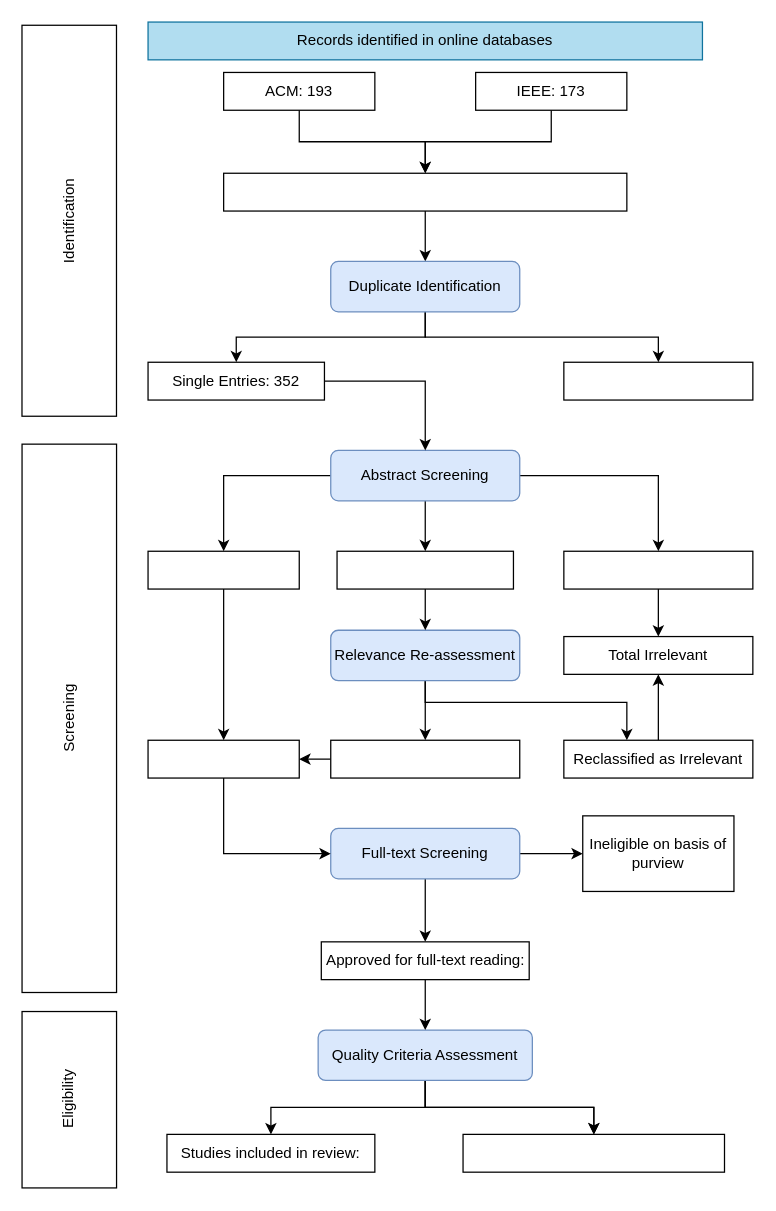
Image size: 776x1211. Some labels were removed from this diagram. Each missing label, with the box of its shape:
Duplicate Entries: 7: (563, 361, 753, 400)
Ineligible on basis of quality criteria: (462, 1133, 724, 1172)
Irrelevant: (563, 550, 753, 589)
Possibily Relevant: (336, 550, 513, 589)
Reclassified as Relevant: (329, 739, 520, 778)
Relevant: (147, 550, 299, 589)
Total Relevant: (147, 739, 299, 778)
Total: 366: (222, 172, 627, 211)
